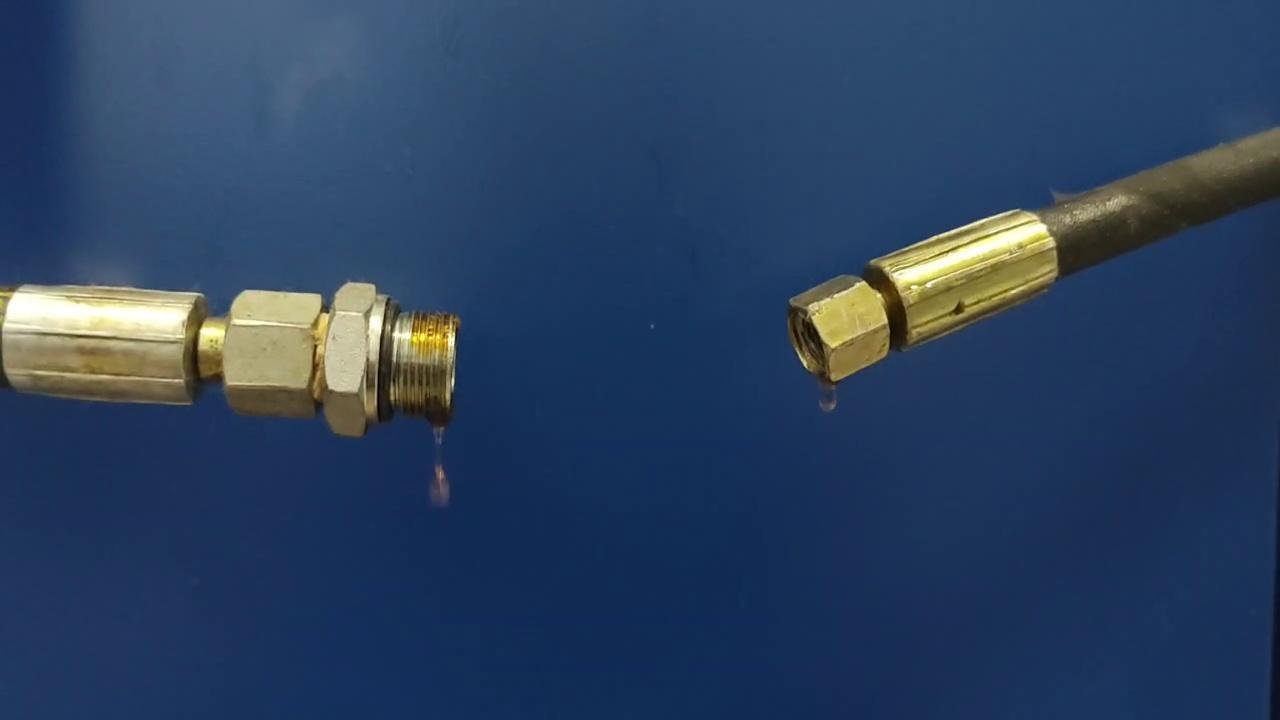water drop: (430, 466, 450, 510), (818, 381, 841, 414), (427, 414, 448, 442)
